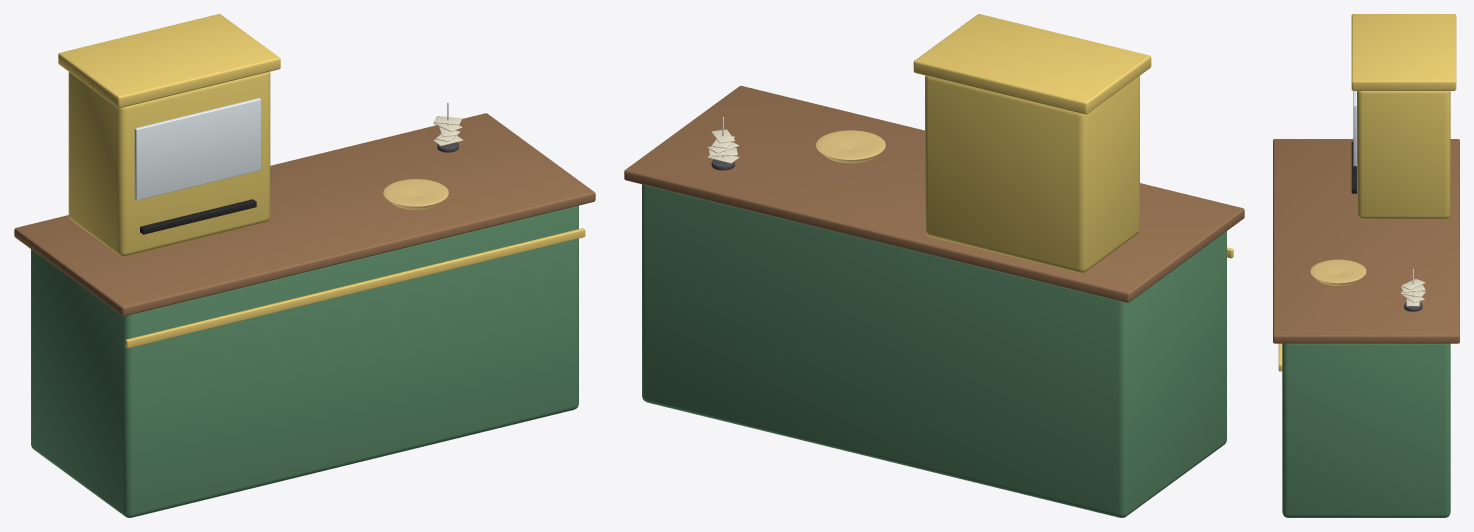
File: scratchcounter.glb
3 renders of one model, left to right at view 1: azimuth 30°, elevation 25°; view 2: azimuth 150°, elevation 25°; view 3: azimuth 270°, elevation 25°, orthographic. The views are drawn at different scales.
Visible parts, largest first — view 1: base, top, disp, disp_cap, disp_win, trim, dish, disp_slot; view 2: base, top, disp, disp_cap, dish; view 3: base, top, disp, disp_cap, dish, disp_win, disp_slot.
Part boxes in pixels (x1,y1,x2,y2): base: [31, 205, 578, 517]; top: [14, 113, 595, 316]; disp: [68, 71, 270, 256]; disp_cap: [58, 14, 280, 108]; disp_win: [134, 98, 261, 200]; trim: [125, 228, 585, 348]; dish: [383, 179, 448, 209]; disp_slot: [140, 199, 256, 234]; base: [642, 184, 1226, 517]; top: [624, 85, 1244, 302]; disp: [925, 75, 1139, 273]; disp_cap: [913, 14, 1151, 114]; dish: [816, 130, 885, 163]; base: [1282, 343, 1450, 517]; top: [1273, 139, 1459, 343]; disp: [1357, 91, 1450, 219]; disp_cap: [1351, 14, 1456, 90]; dish: [1310, 259, 1366, 285]; disp_win: [1353, 91, 1356, 166]; disp_slot: [1351, 141, 1356, 193].
Bounding box in the file's own units: 2.5 × 1.95 × 1.
